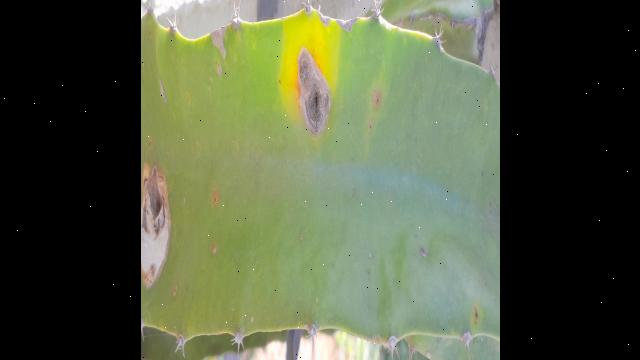stemcanker: (362, 87, 387, 112), (205, 181, 225, 210), (468, 302, 487, 330), (360, 115, 381, 139), (205, 235, 223, 261)
